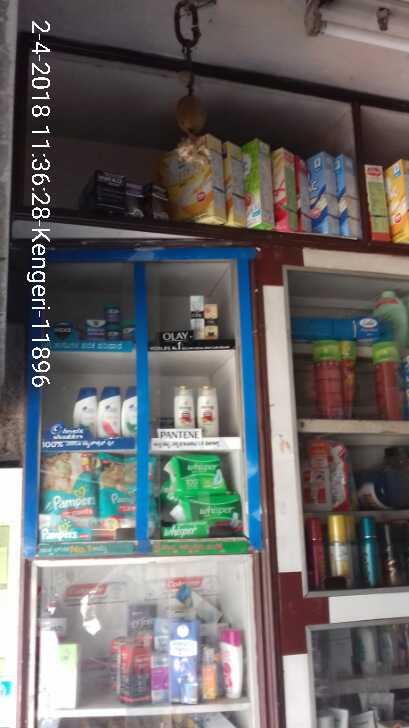vicks: (84, 302, 135, 343)
